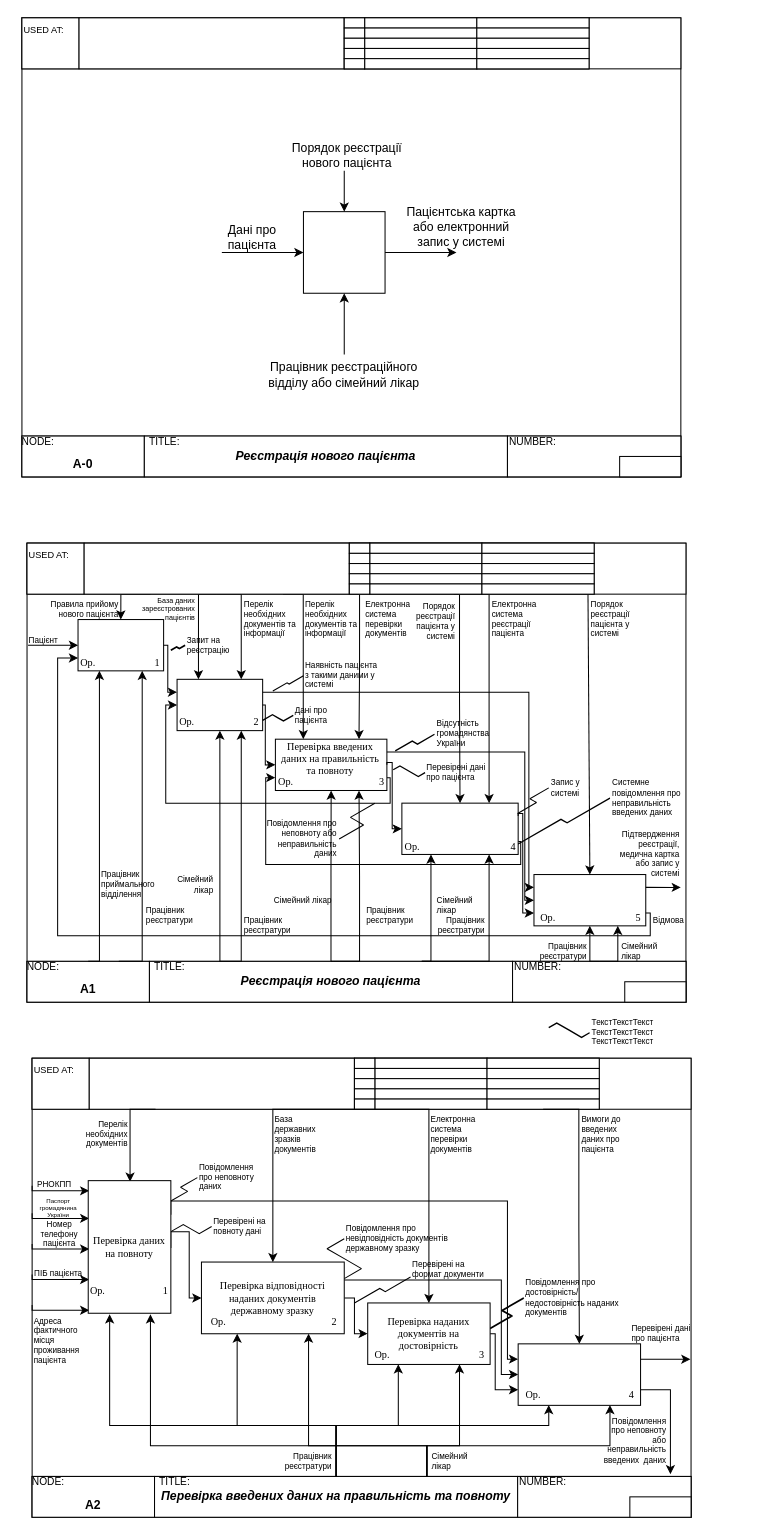
This 760x1535 diagram has some shape labels left out. The shapes that lost their labels are listed below. From the top down, each one's box as (x1, y1, x2, y2) in pixels, then its label:
(302, 211, 385, 293): Реєстрація нового пацієнта А0
(77, 619, 164, 671): Прийом запиту на реєстрацію
(176, 678, 263, 731): Прийом даних про пацієнта
(401, 802, 518, 854): Створення та заповнення пацієнтської картки у системі
(533, 874, 646, 926): Підтвердження або відмова у реєстрації пацієнта
(517, 1343, 641, 1405): Створення звіту про результати перевірки
